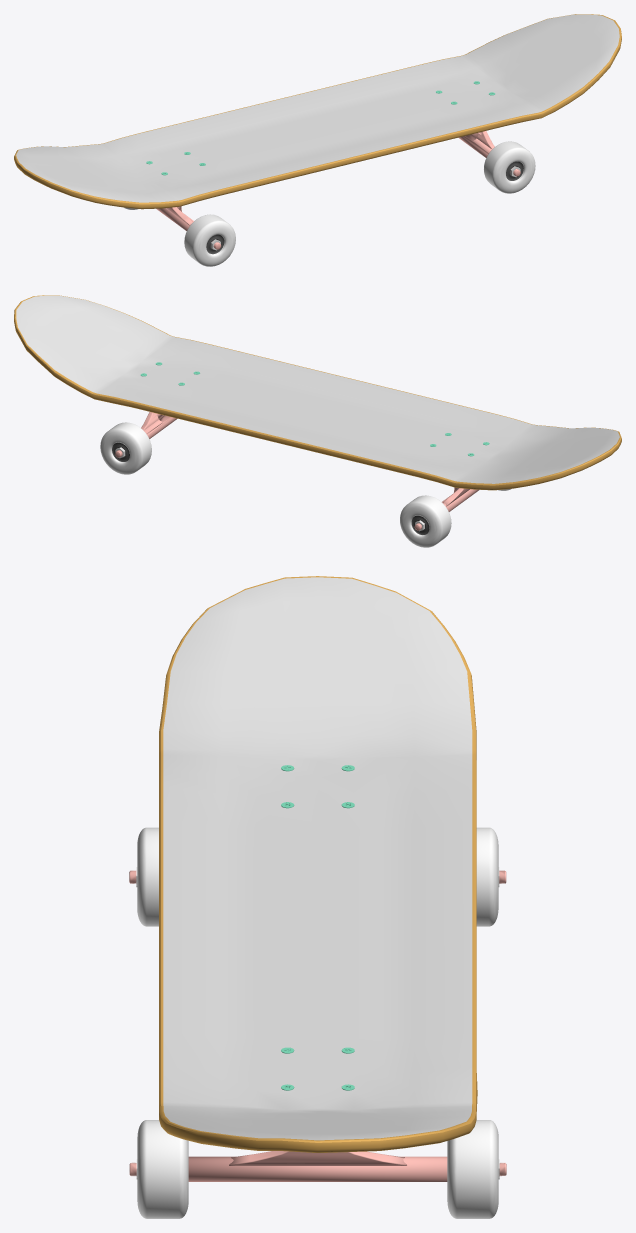
File: Skateboard.gltf
3 views of the same model, one above another, from view 1: azimuth 30°, elevation 25°; view 2: azimuth 150°, elevation 25°; view 3: azimuth 270°, elevation 25° (orthographic). The views are drawn at different scales.
Parts seen in each view (by area): view 1: Deck, TrucksJoined; view 2: Deck, TrucksJoined; view 3: Deck, TrucksJoined.
Boxes of the visible parts, left/top/right/bottom form: Deck: left=14, top=14, right=621, bottom=209; TrucksJoined: left=123, top=131, right=535, bottom=266; Deck: left=14, top=295, right=621, bottom=490; TrucksJoined: left=100, top=412, right=511, bottom=547; Deck: left=159, top=576, right=477, bottom=1152; TrucksJoined: left=129, top=827, right=506, bottom=1218.
Bounding box in the file's own units: 3.92 × 0.6751 × 1.08.
